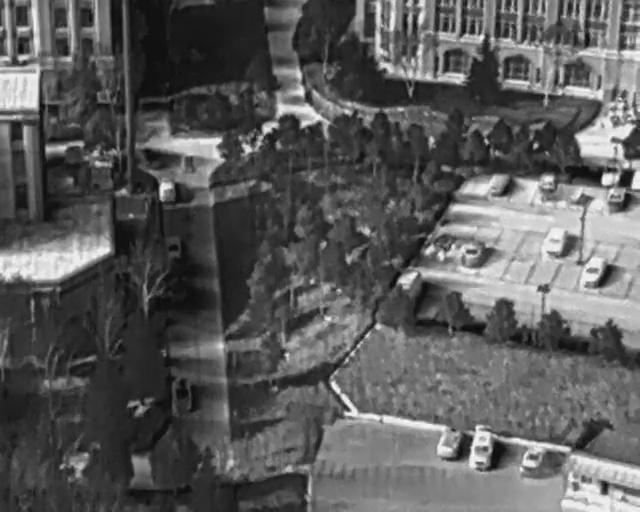Bicycle: (618, 102, 632, 125), (609, 104, 620, 127)
Car: (466, 423, 494, 473), (515, 442, 548, 482), (537, 224, 570, 259), (433, 424, 463, 462), (424, 230, 455, 263), (581, 253, 607, 289), (485, 168, 513, 199), (170, 376, 192, 411), (600, 160, 623, 186), (157, 177, 175, 203), (165, 235, 181, 262), (540, 170, 557, 195), (181, 151, 195, 176)
OtherVehicle: (397, 270, 420, 304)
